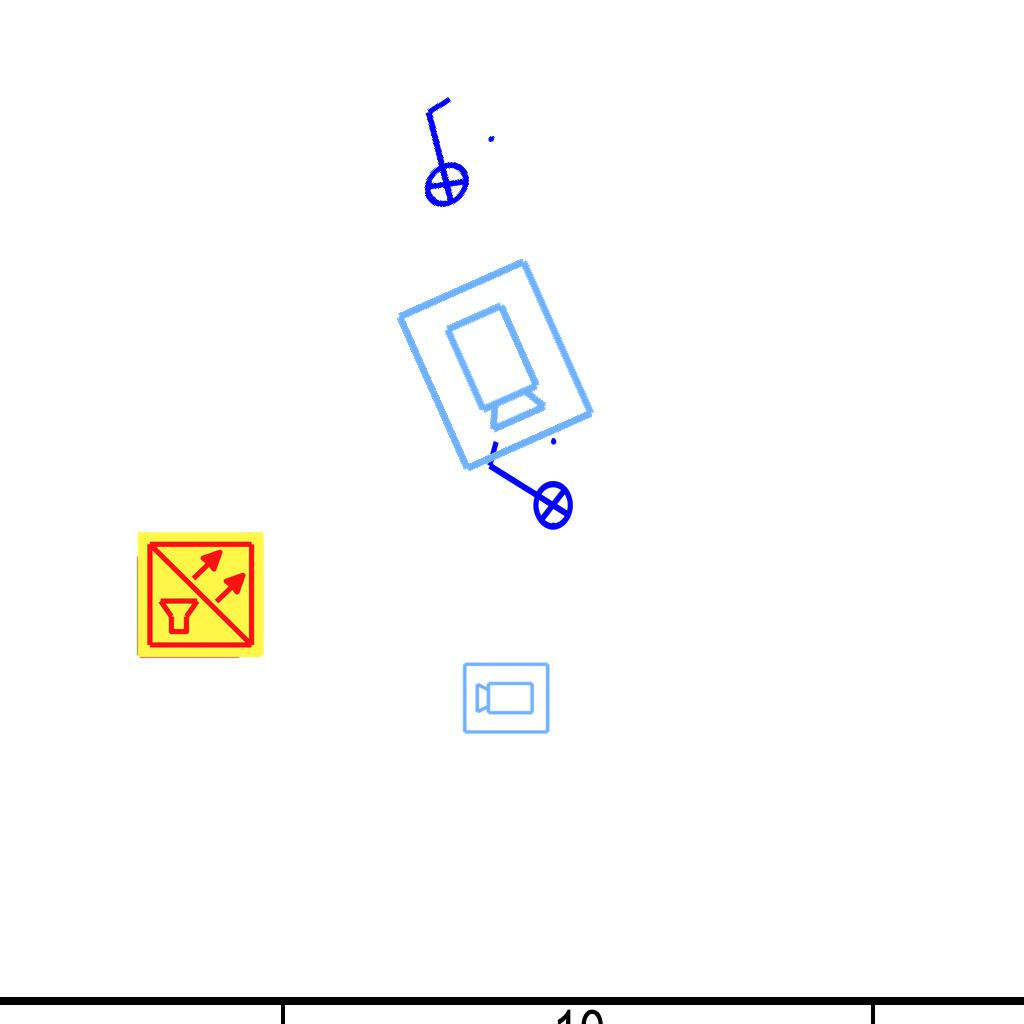Ausschalter_beleuchtet: (366, 80, 514, 228), (479, 432, 575, 544)
KFO_Kamera_mit_Festobjektiv: (386, 250, 602, 480), (461, 659, 552, 736)
OKW_Multisensormelder_(Kombination_optischer_Rauch-Kahlenmonoxid_Waerme-Melder): (135, 529, 267, 661)
